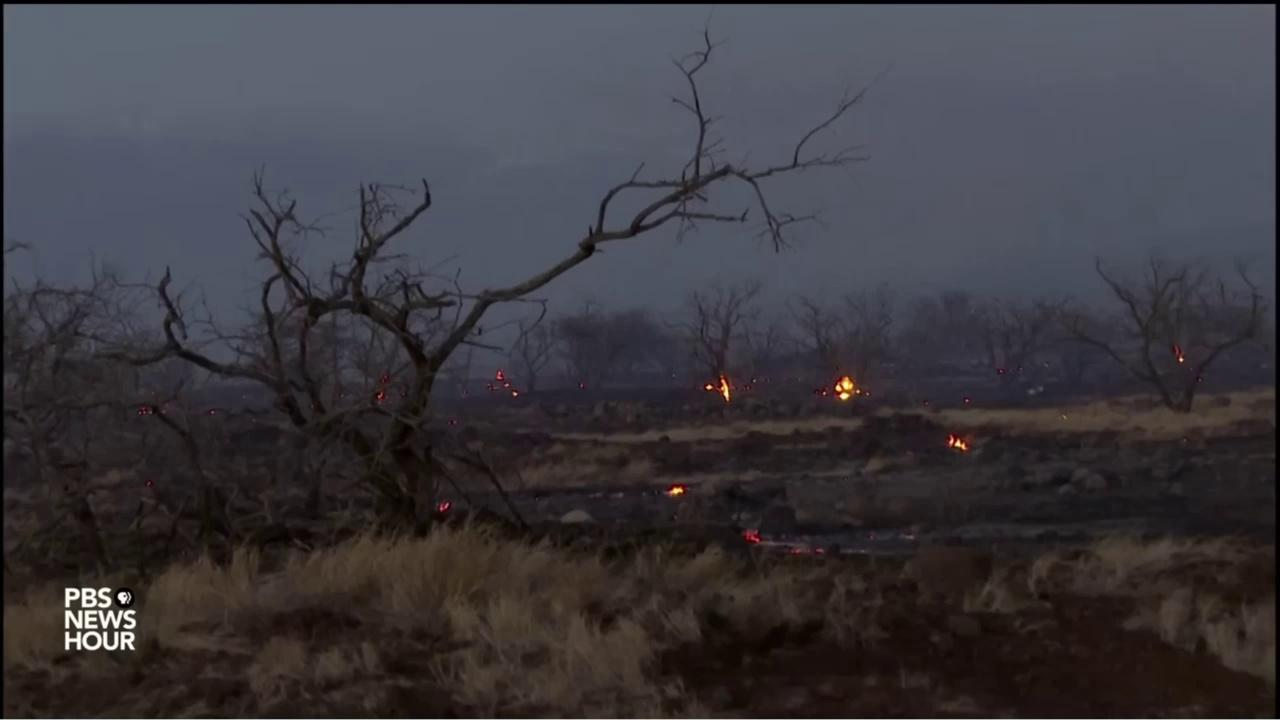fire: (832, 375, 854, 400), (945, 432, 970, 451), (716, 374, 730, 403), (742, 528, 761, 545), (664, 486, 685, 497), (135, 405, 154, 416), (1174, 344, 1184, 364), (438, 501, 451, 514), (375, 390, 386, 401), (703, 382, 714, 392), (495, 369, 504, 380), (788, 547, 801, 554), (145, 480, 152, 489), (209, 409, 217, 416), (855, 388, 861, 396), (964, 397, 970, 404), (512, 391, 518, 398), (503, 382, 509, 388), (822, 391, 826, 396), (999, 370, 1004, 374)
smoke: (4, 2, 1275, 391)
